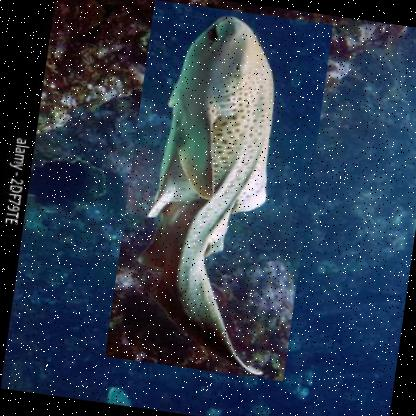zebra_shark: (102, 0, 332, 383)
